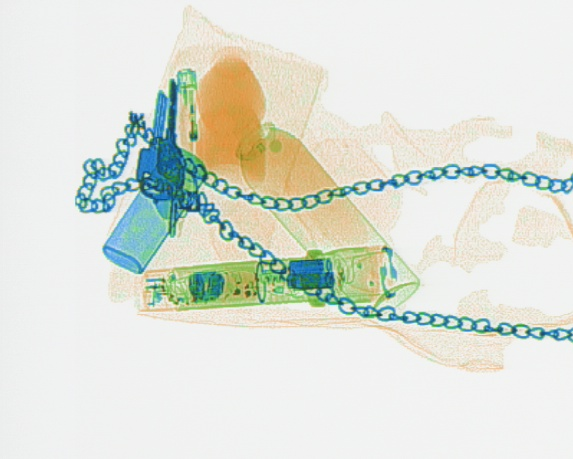lighter: (175, 68, 200, 157)
pressure: (234, 122, 422, 313)
